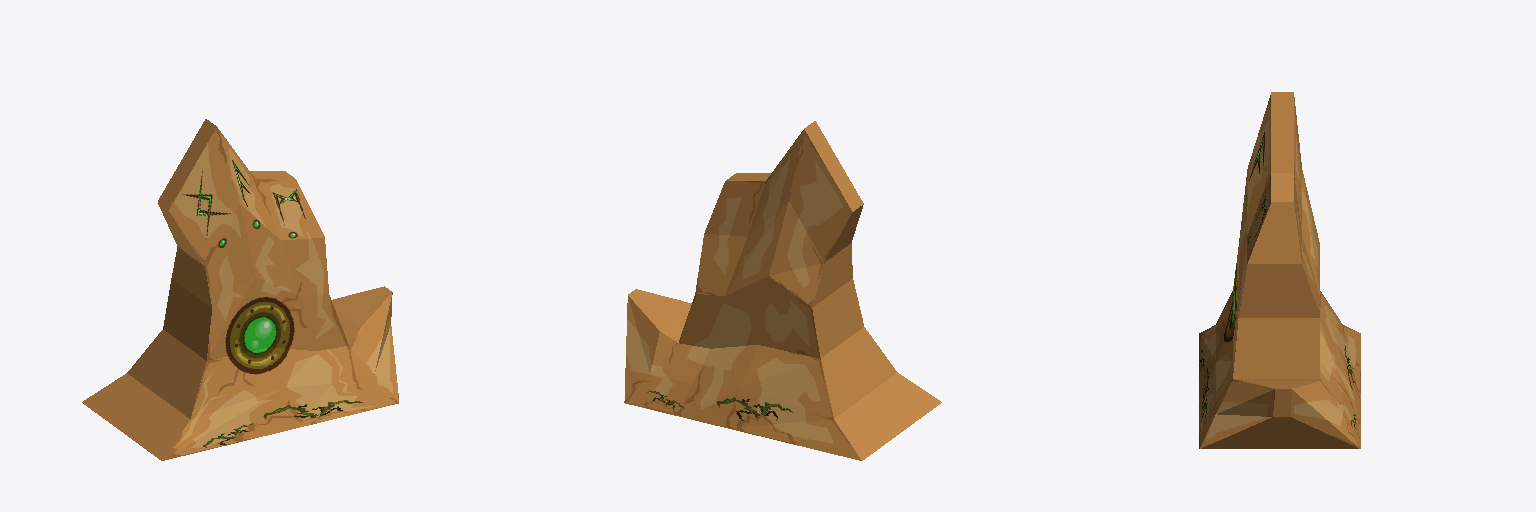
The picture shows the model from 3 angles: view 1: azimuth 30°, elevation 25°; view 2: azimuth 150°, elevation 25°; view 3: azimuth 270°, elevation 25°; orthographic projection.
Visible parts, largest first — view 1: Cube_Cube.002; view 2: Cube_Cube.002; view 3: Cube_Cube.002.
Part boxes in pixels (bbox=[...]): Cube_Cube.002: bbox=[82, 119, 398, 460]; Cube_Cube.002: bbox=[624, 121, 941, 460]; Cube_Cube.002: bbox=[1199, 92, 1360, 448].
Size of the model in its own units: 1.21 by 1.24 by 0.6303.
1 materials, 1 textured.